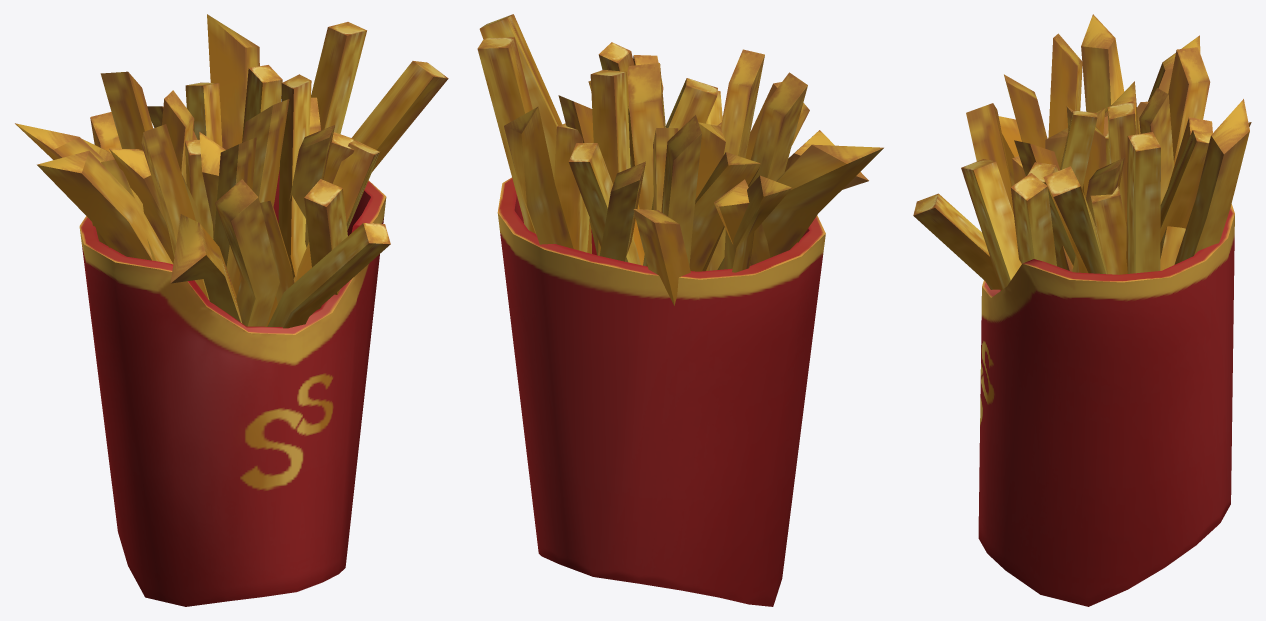
The model's file is friespocketwithFries.fbx.
The picture shows the model from 3 angles, left to right: view 1: azimuth 30°, elevation 25°; view 2: azimuth 150°, elevation 25°; view 3: azimuth 270°, elevation 25°; orthographic projection. The views are drawn at different scales.
Parts seen in each view (by area): view 1: friespocketwithFries, fries.040; view 2: friespocketwithFries, fries.040; view 3: friespocketwithFries, fries.040.
Boxes of the visible parts, bbox=[...] form: friespocketwithFries: bbox=[79, 170, 386, 606]; fries.040: bbox=[15, 14, 448, 328]; friespocketwithFries: bbox=[497, 177, 825, 606]; fries.040: bbox=[477, 14, 883, 305]; friespocketwithFries: bbox=[978, 204, 1234, 606]; fries.040: bbox=[913, 14, 1251, 290].
Bounding box in the file's own units: 28.58 × 34.42 × 21.72.
